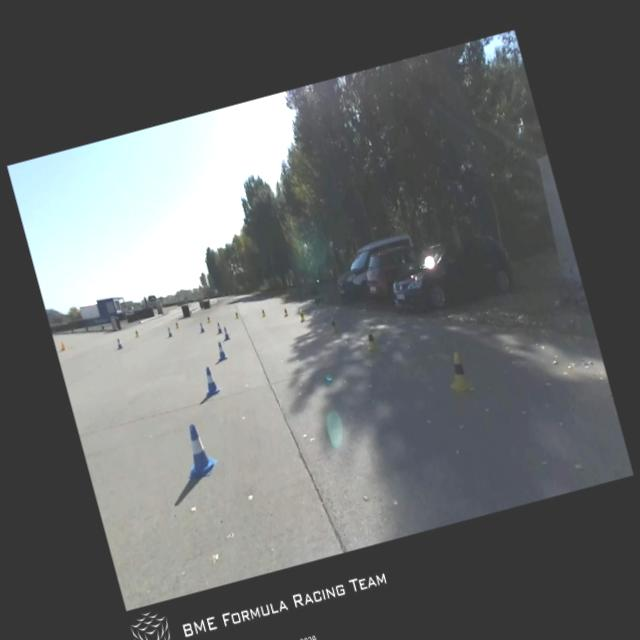blue_cone: (174, 419, 222, 481), (199, 364, 221, 396), (214, 339, 228, 362), (221, 326, 230, 341), (114, 338, 124, 350), (165, 326, 173, 337), (215, 322, 222, 334), (198, 321, 205, 332)
orange_cone: (59, 340, 66, 350)
yellow_cone: (441, 349, 476, 398), (361, 327, 378, 352), (326, 315, 339, 335), (259, 308, 266, 317), (133, 329, 140, 338), (298, 312, 304, 322), (282, 307, 288, 316), (204, 315, 210, 323), (174, 321, 179, 329), (234, 311, 238, 319)
